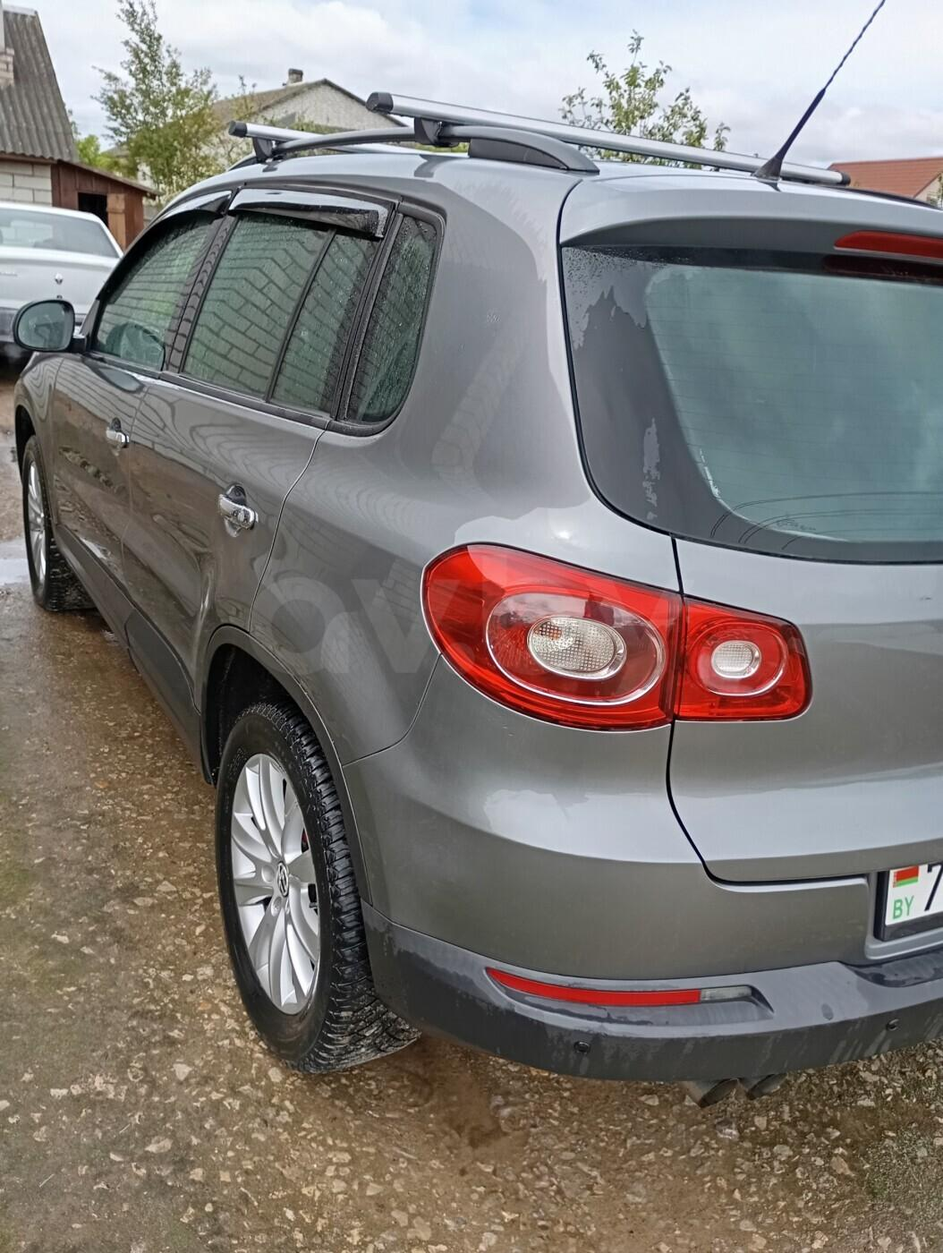Tiguan_2007-2011: (13, 129, 943, 1099)
